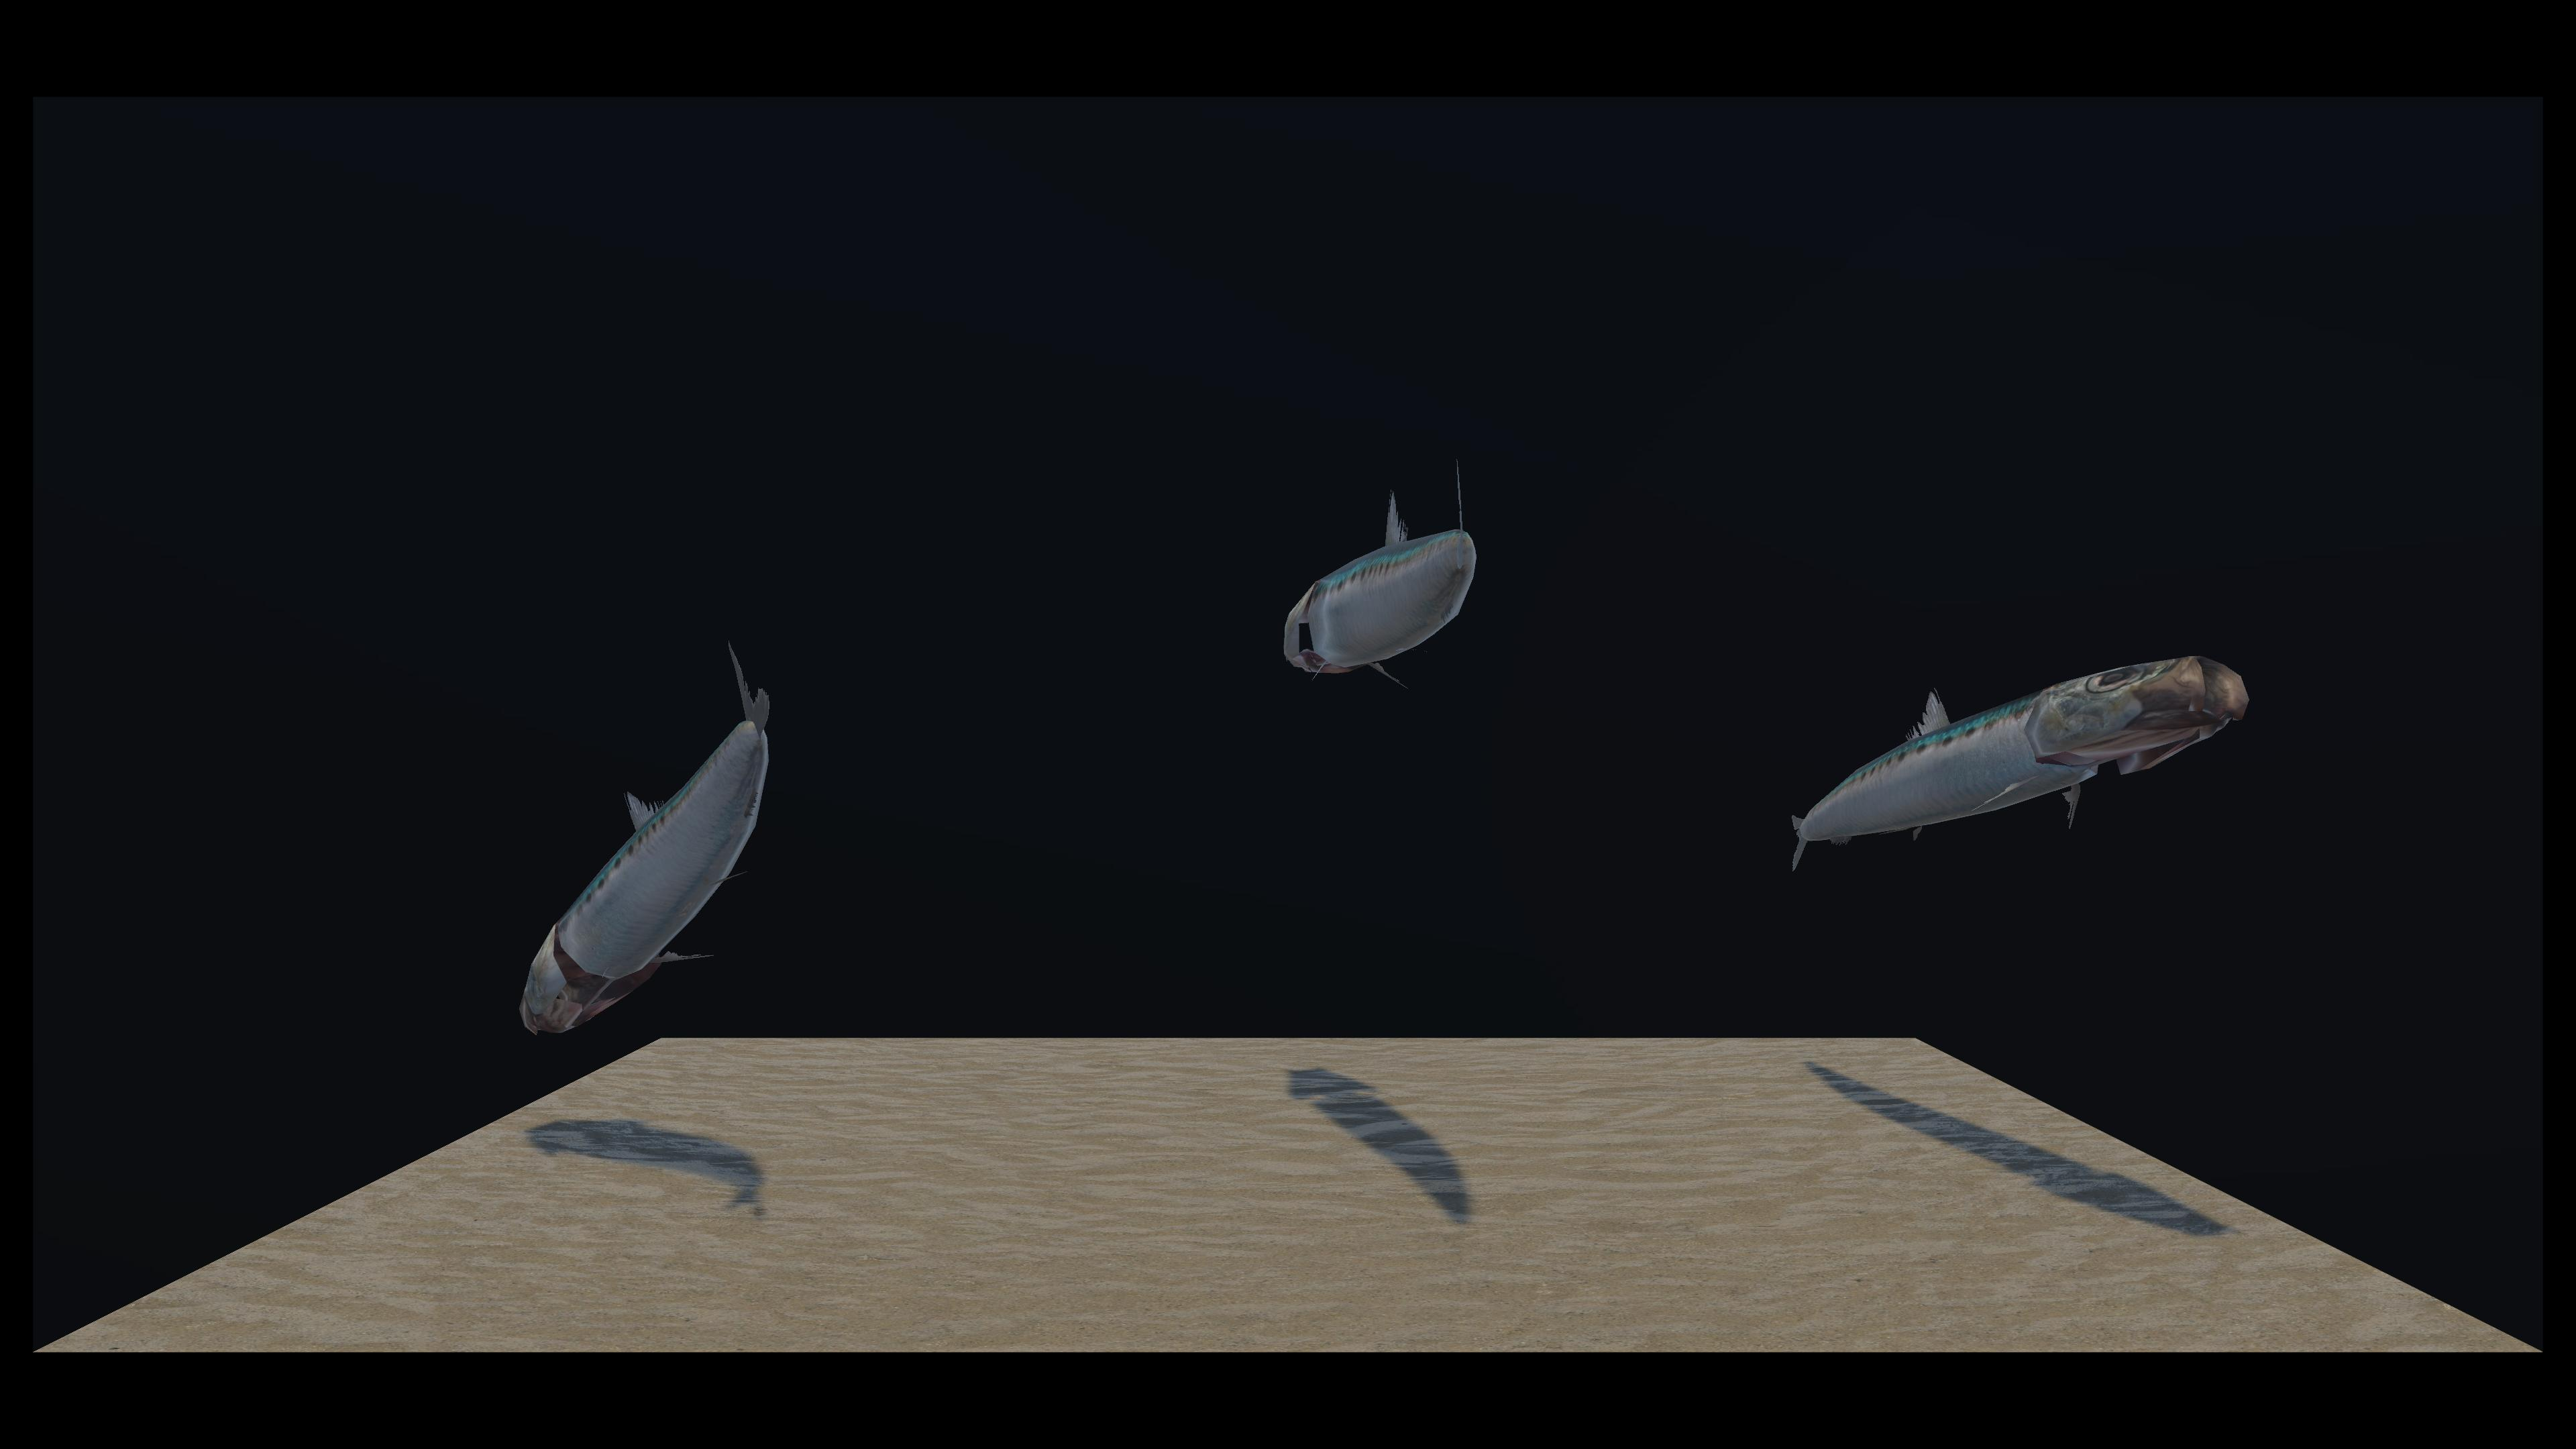Sardine_Front: (761, 554, 2196, 870), (515, 354, 1463, 694), (540, 610, 833, 985)
